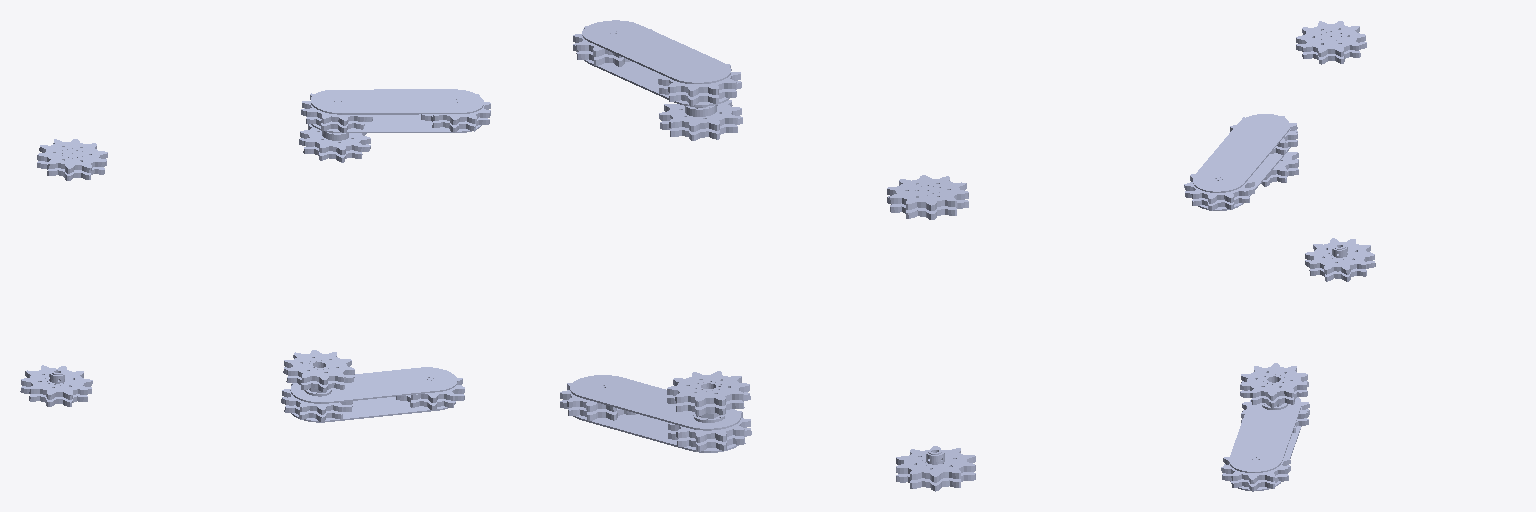
URDF robot description (gsat_urdf):
<?xml version="1.0" encoding="utf-8"?>
<!-- This URDF was automatically created by SolidWorks to URDF Exporter! Originally created by [author] ([email redacted]) 
     Commit Version: 1.5.1-0-g916b5db  Build Version: 1.5.7152.31018
     For more information, please see http://wiki.ros.org/sw_urdf_exporter -->
<robot
  name="gsat_urdf">
  <link
    name="base_link">
    <inertial>
      <origin
        xyz="0.266854048300906 -0.0196745688344671 0.181448480588276"
        rpy="0 0 0" />
      <mass
        value="10.6288067599575" />
      <inertia
        ixx="0.114951087561527"
        ixy="0.00764206728612218"
        ixz="-0.053312933184893"
        iyy="0.225745931152675"
        iyz="-0.000337447770241439"
        izz="0.31011873472109" />
    </inertial>
    <visual>
      <origin
        xyz="0 0 0"
        rpy="0 0 0" />
      <geometry>
        <mesh
          filename="package://gsat_urdf/meshes/base_link.STL" />
      </geometry>
      <material
        name="">
        <color
          rgba="0.792156862745098 0.819607843137255 0.933333333333333 1" />
      </material>
    </visual>
    <collision>
      <origin
        xyz="0 0 0"
        rpy="0 0 0" />
      <geometry>
        <mesh
          filename="package://gsat_urdf/meshes/base_link.STL" />
      </geometry>
    </collision>
  </link>
  <link
    name="LF">
    <inertial>
      <origin
        xyz="0.0819570172204619 -0.00667616801088727 0.0692419076642504"
        rpy="0 0 0" />
      <mass
        value="0.792785300978338" />
      <inertia
        ixx="0.000649876873137279"
        ixy="9.17115065194579E-05"
        ixz="-4.62319815270522E-14"
        iyy="0.00176830170477571"
        iyz="-1.60623698044517E-13"
        izz="0.00238763773202939" />
    </inertial>
    <visual>
      <origin
        xyz="0 0 0"
        rpy="0 0 0" />
      <geometry>
        <mesh
          filename="package://gsat_urdf/meshes/LF.STL" />
      </geometry>
      <material
        name="">
        <color
          rgba="0.792156862745098 0.819607843137255 0.933333333333333 1" />
      </material>
    </visual>
    <collision>
      <origin
        xyz="0 0 0"
        rpy="0 0 0" />
      <geometry>
        <mesh
          filename="package://gsat_urdf/meshes/LF.STL" />
      </geometry>
    </collision>
  </link>
  <joint
    name="LFJ"
    type="continuous">
    <origin
      xyz="0.54403 -0.19894 0.1742"
      rpy="0.019508 0.059775 -0.30358" />
    <parent
      link="base_link" />
    <child
      link="LF" />
    <axis
      xyz="0 0 1" />
  </joint>
  <link
    name="LB">
    <inertial>
      <origin
        xyz="-7.90398302363826E-12 -1.54344805686213E-09 -0.0349837038047943"
        rpy="0 0 0" />
      <mass
        value="0.205470115797593" />
      <inertia
        ixx="0.000165642318603424"
        ixy="-1.01480732928798E-11"
        ixz="-1.3869159218706E-12"
        iyy="0.000165642302126842"
        iyz="6.74308408623334E-13"
        izz="0.000321571008345194" />
    </inertial>
    <visual>
      <origin
        xyz="0 0 0"
        rpy="0 0 0" />
      <geometry>
        <mesh
          filename="package://gsat_urdf/meshes/LB.STL" />
      </geometry>
      <material
        name="">
        <color
          rgba="0.792156862745098 0.819607843137255 0.933333333333333 1" />
      </material>
    </visual>
    <collision>
      <origin
        xyz="0 0 0"
        rpy="0 0 0" />
      <geometry>
        <mesh
          filename="package://gsat_urdf/meshes/LB.STL" />
      </geometry>
    </collision>
  </link>
  <joint
    name="LBJ"
    type="continuous">
    <origin
      xyz="0.059932 -0.075302 0.18823"
      rpy="-3.1321 0.062158 -0.46801" />
    <parent
      link="base_link" />
    <child
      link="LB" />
    <axis
      xyz="0 0 1" />
  </joint>
  <link
    name="RB">
    <inertial>
      <origin
        xyz="-6.81596043494714E-10 -1.38181031200668E-09 0.0374137646332866"
        rpy="0 0 0" />
      <mass
        value="0.205470112335451" />
      <inertia
        ixx="0.0001656423233608"
        ixy="-6.81374058466699E-13"
        ixz="-1.60661475502206E-12"
        iyy="0.00016564229715823"
        iyz="1.42086575117368E-14"
        izz="0.000321571008307375" />
    </inertial>
    <visual>
      <origin
        xyz="0 0 0"
        rpy="0 0 0" />
      <geometry>
        <mesh
          filename="package://gsat_urdf/meshes/RB.STL" />
      </geometry>
      <material
        name="">
        <color
          rgba="0.792156862745098 0.819607843137255 0.933333333333333 1" />
      </material>
    </visual>
    <collision>
      <origin
        xyz="0 0 0"
        rpy="0 0 0" />
      <geometry>
        <mesh
          filename="package://gsat_urdf/meshes/RB.STL" />
      </geometry>
    </collision>
  </link>
  <joint
    name="RBJ"
    type="continuous">
    <origin
      xyz="0.040237 -0.061264 -0.19593"
      rpy="-3.1345 -0.062471 2.4089" />
    <parent
      link="base_link" />
    <child
      link="RB" />
    <axis
      xyz="0 0 1" />
  </joint>
  <link
    name="RF">
    <inertial>
      <origin
        xyz="0.0664619402598657 -0.0484183289259268 -0.0818819864444948"
        rpy="0 0 0" />
      <mass
        value="0.792785300978338" />
      <inertia
        ixx="0.00103535947125629"
        ixy="0.000539395500315438"
        ixz="-1.44615893424901E-13"
        iyy="0.0013828191066567"
        iyz="8.06322104354371E-14"
        izz="0.00238763773202939" />
    </inertial>
    <visual>
      <origin
        xyz="0 0 0"
        rpy="0 0 0" />
      <geometry>
        <mesh
          filename="package://gsat_urdf/meshes/RF.STL" />
      </geometry>
      <material
        name="">
        <color
          rgba="0.792156862745098 0.819607843137255 0.933333333333333 1" />
      </material>
    </visual>
    <collision>
      <origin
        xyz="0 0 0"
        rpy="0 0 0" />
      <geometry>
        <mesh
          filename="package://gsat_urdf/meshes/RF.STL" />
      </geometry>
    </collision>
  </link>
  <joint
    name="RFJ"
    type="continuous">
    <origin
      xyz="0.52334 -0.1842 -0.22925"
      rpy="0.050393 0.037616 0.31084" />
    <parent
      link="base_link" />
    <child
      link="RF" />
    <axis
      xyz="0 0 1" />
  </joint>
</robot>

--- Facts derived from the render (not from the file) ---
3 views of the same robot in one strip: view 1: azimuth 30°, elevation 25°; view 2: azimuth 150°, elevation 25°; view 3: azimuth 270°, elevation 25° (orthographic).
Model gsat_urdf with 5 links and 4 joints (4 continuous), rooted at base_link, posed every joint at zero.
Links seen in each view (by area): view 1: LF, RF, RB, LB; view 2: RF, LF, LB, RB; view 3: RF, LF, LB, RB.
Link boxes in pixels (bbox=[...]): LF: bbox=[299, 89, 490, 162]; RF: bbox=[281, 350, 464, 422]; RB: bbox=[20, 365, 92, 406]; LB: bbox=[37, 139, 107, 180]; RF: bbox=[560, 371, 751, 452]; LF: bbox=[573, 20, 742, 140]; LB: bbox=[887, 175, 968, 219]; RB: bbox=[896, 446, 975, 491]; RF: bbox=[1221, 363, 1309, 491]; LF: bbox=[1184, 114, 1298, 210]; LB: bbox=[1296, 21, 1366, 64]; RB: bbox=[1305, 238, 1375, 281].
Size in the robot's own frame: 0.8428 by 0.3563 by 0.6444 metres.
4 mesh visuals loaded from 5 distinct referenced files (4 binary STL); not drawn: 1 (reference not matched to a file when rendering).
